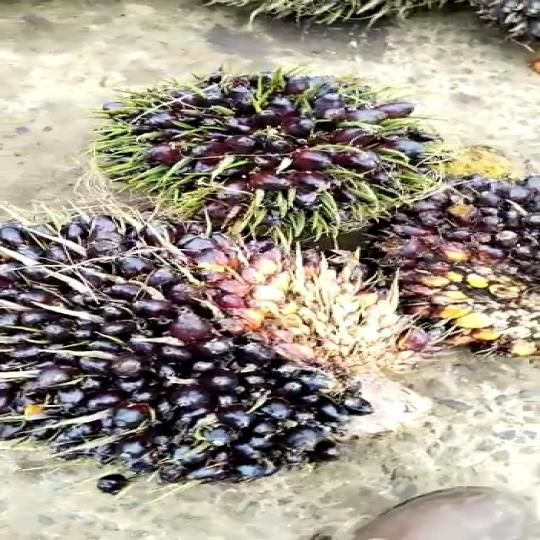mentah: (0, 208, 455, 503), (81, 63, 479, 248), (327, 166, 540, 366)
